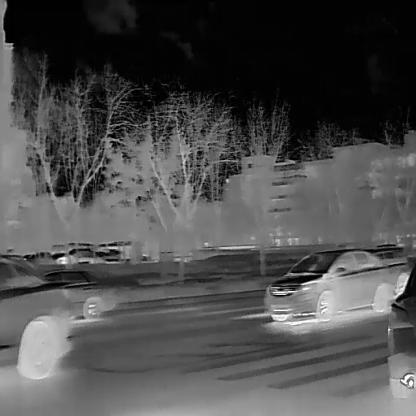car: (264, 247, 390, 322), (0, 252, 73, 378), (38, 268, 118, 324), (371, 243, 412, 297)
